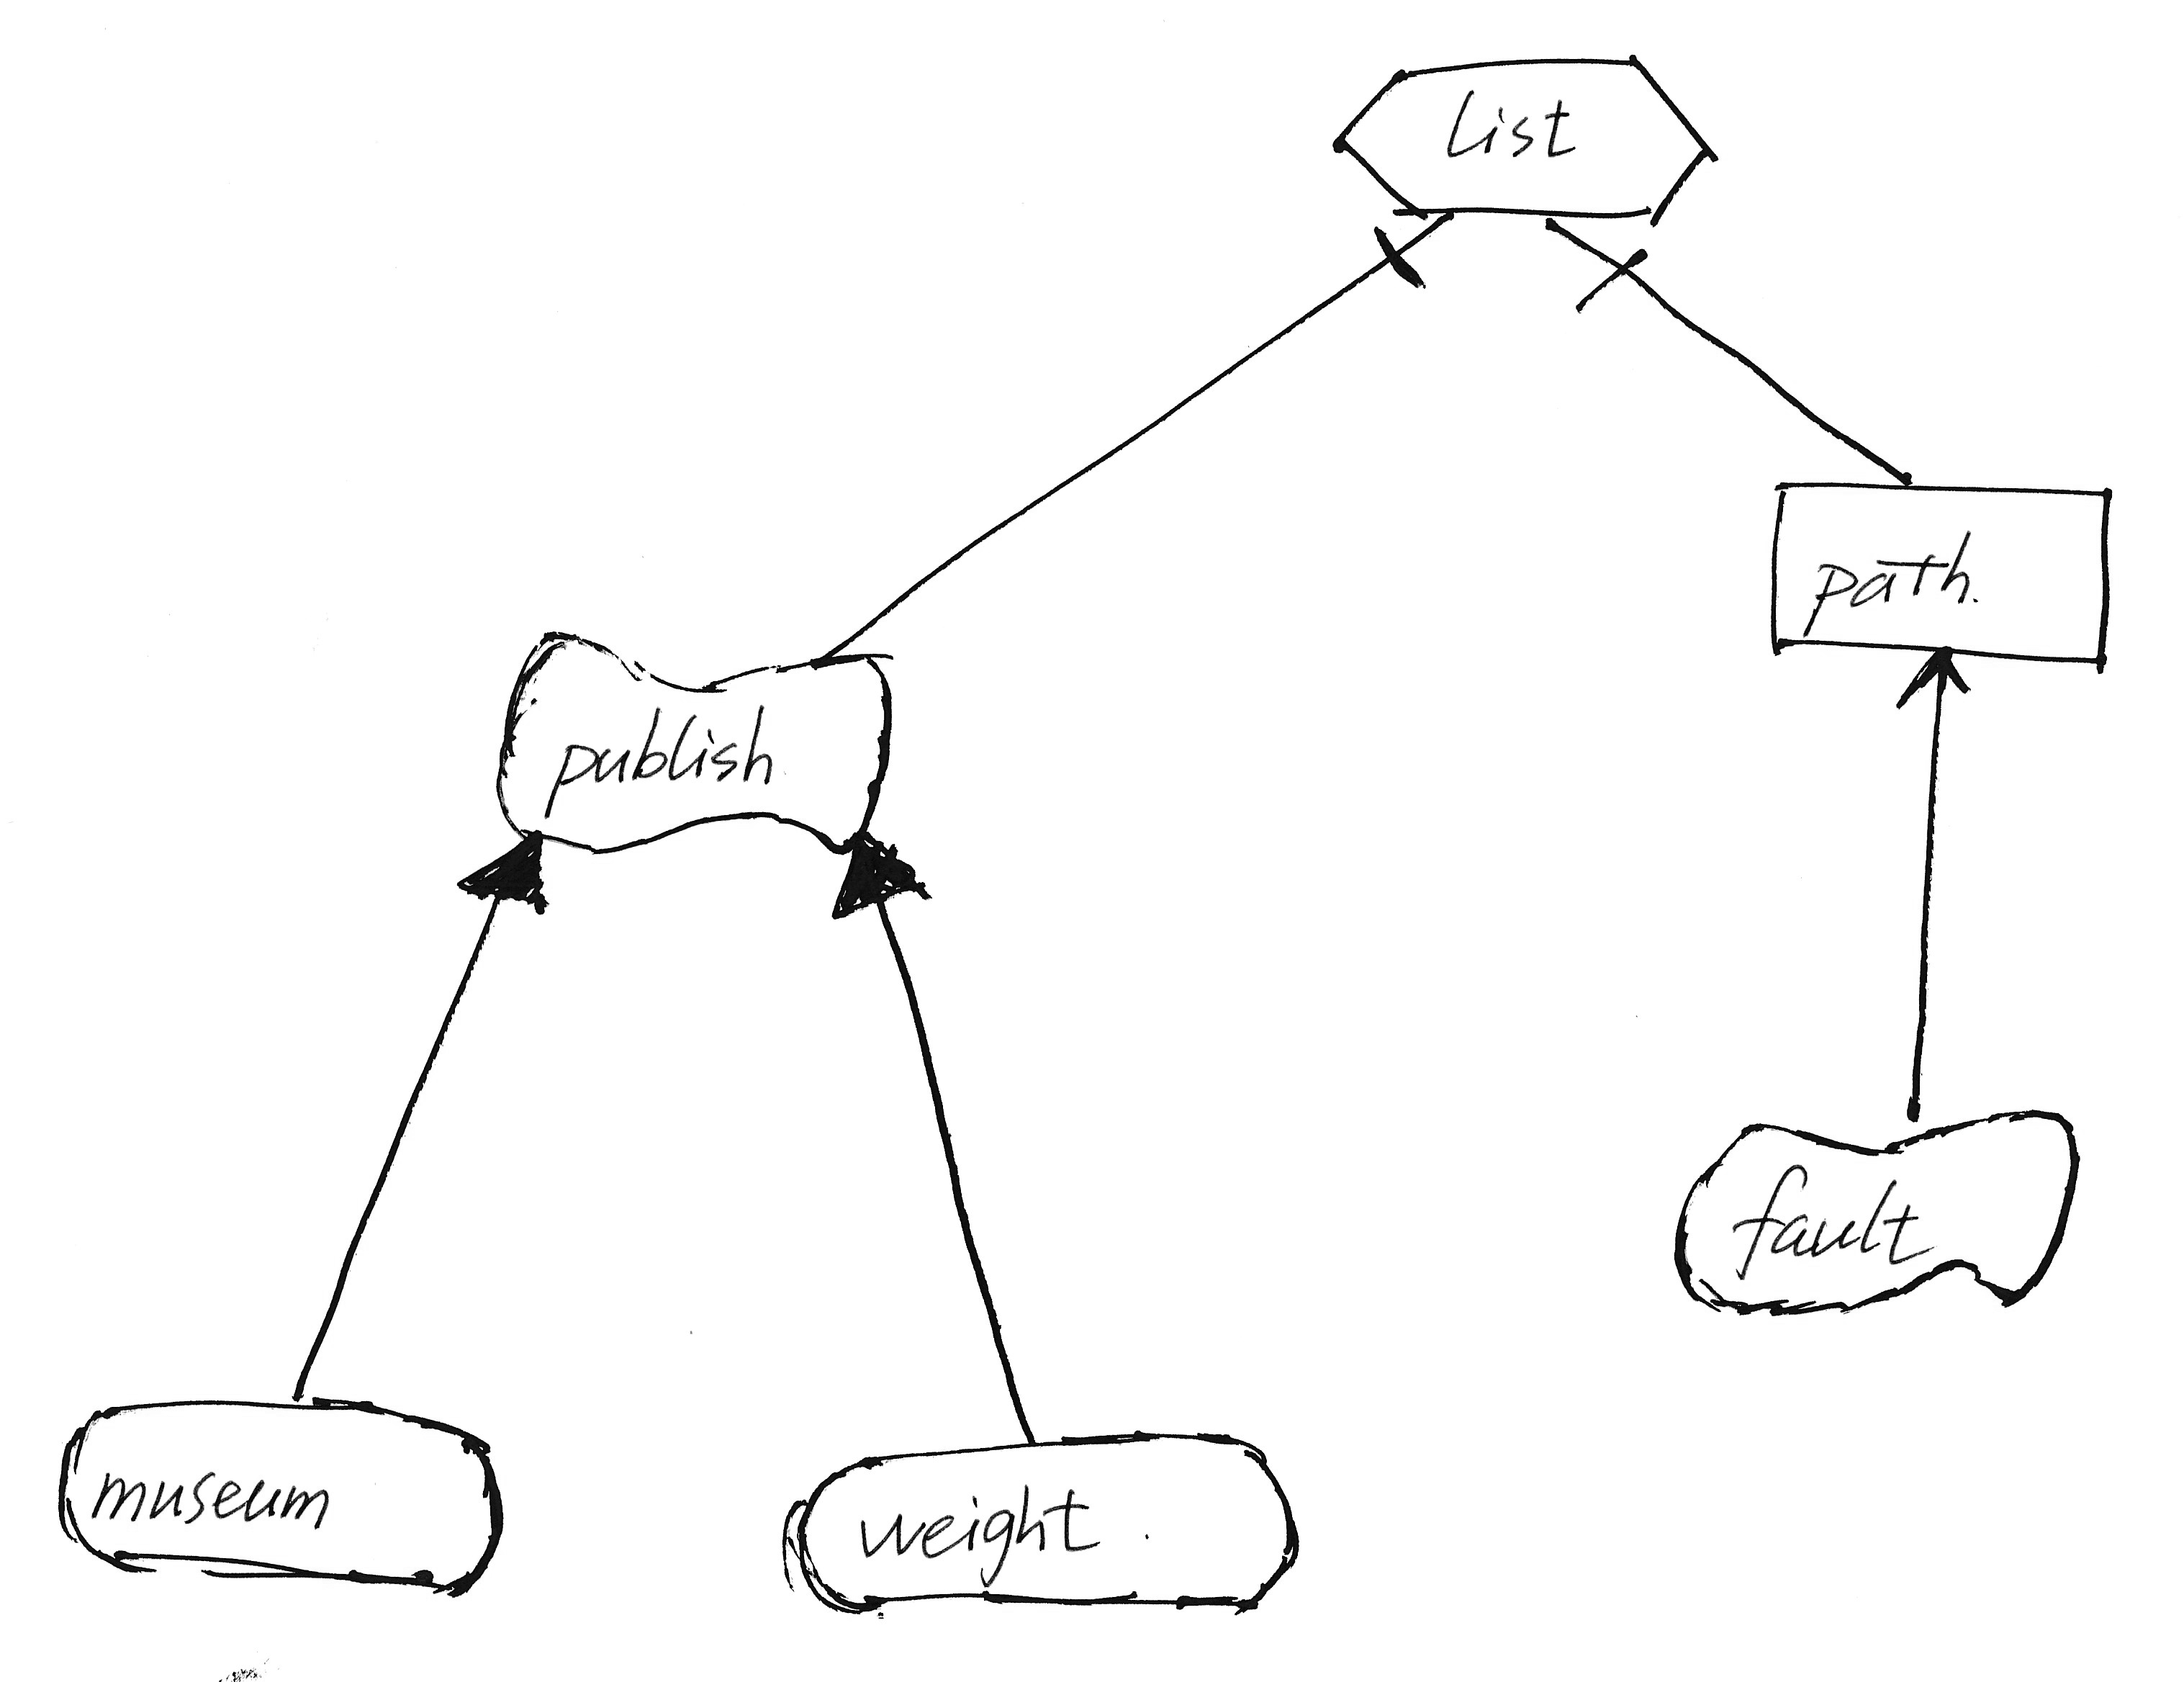and: (1533, 203, 1665, 316), (1363, 198, 1460, 299)
arrow: (1886, 638, 1977, 724)
goal: (773, 1405, 1322, 1636), (48, 1378, 526, 1608)
or: (814, 818, 934, 926), (452, 818, 558, 919)
quality: (478, 604, 915, 869), (1660, 1092, 2090, 1327)
resource: (1746, 454, 2136, 689)
task: (1326, 44, 1732, 249)
